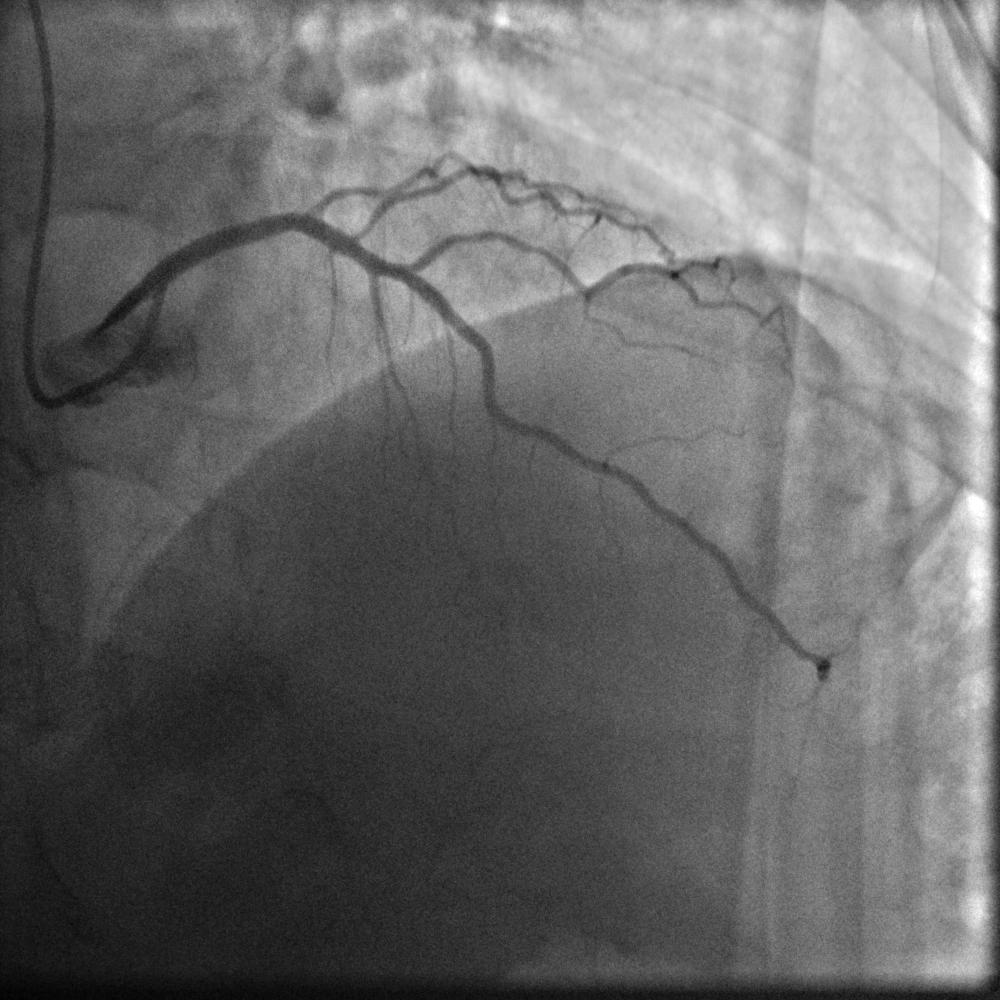Stenosis: (295, 192, 380, 247)
